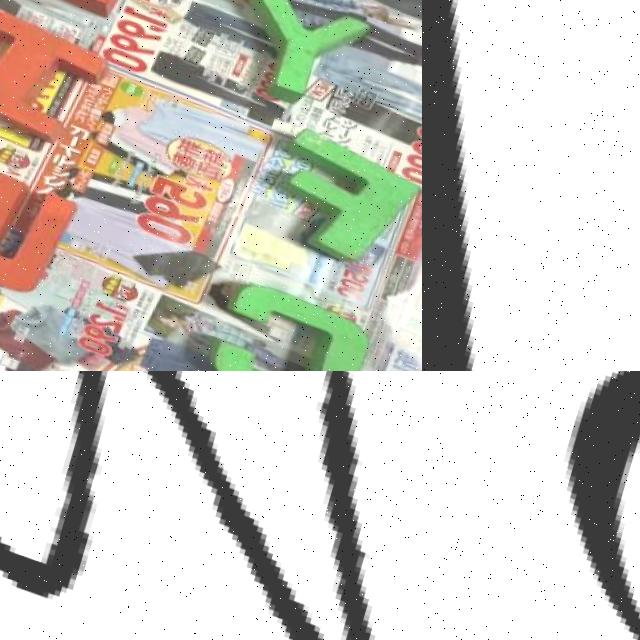6: (444, 371, 640, 640)
C: (201, 266, 370, 371)
F: (258, 116, 419, 270)
I: (0, 0, 110, 150)
N: (0, 371, 422, 640), (422, 0, 640, 371)
W: (0, 142, 74, 296)
Y: (228, 0, 366, 107)
